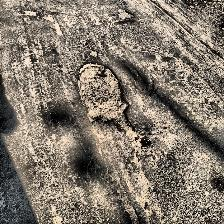pothole: (76, 61, 150, 144), (128, 66, 156, 94), (42, 15, 64, 37), (117, 8, 135, 20), (18, 9, 38, 15), (89, 50, 99, 56)
